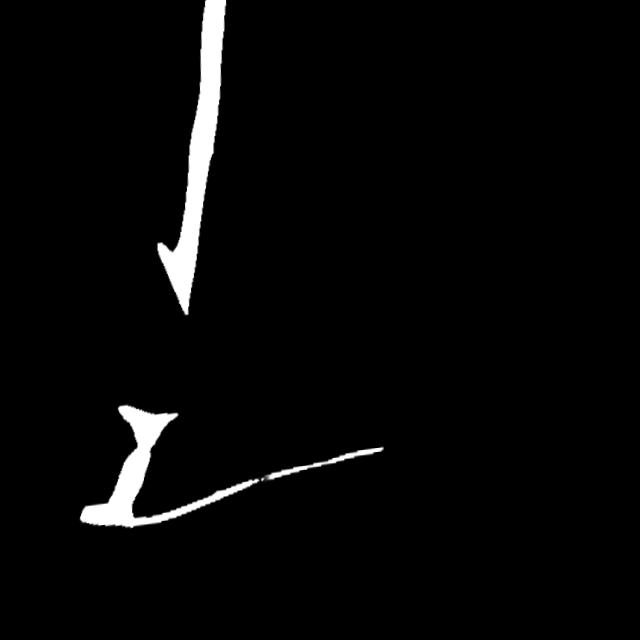inf: (252, 472, 281, 497)
